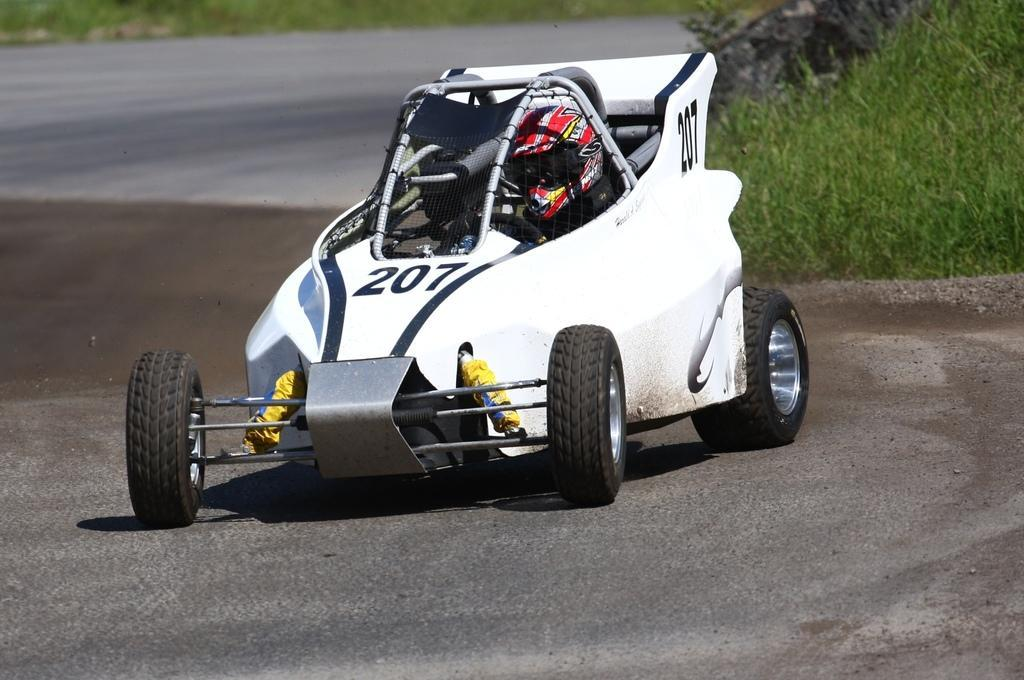helmet: (508, 104, 604, 223)
